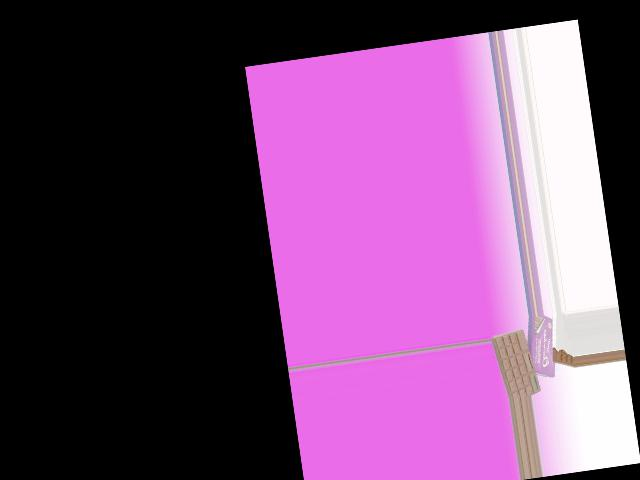chocolate: (490, 329, 542, 397)
